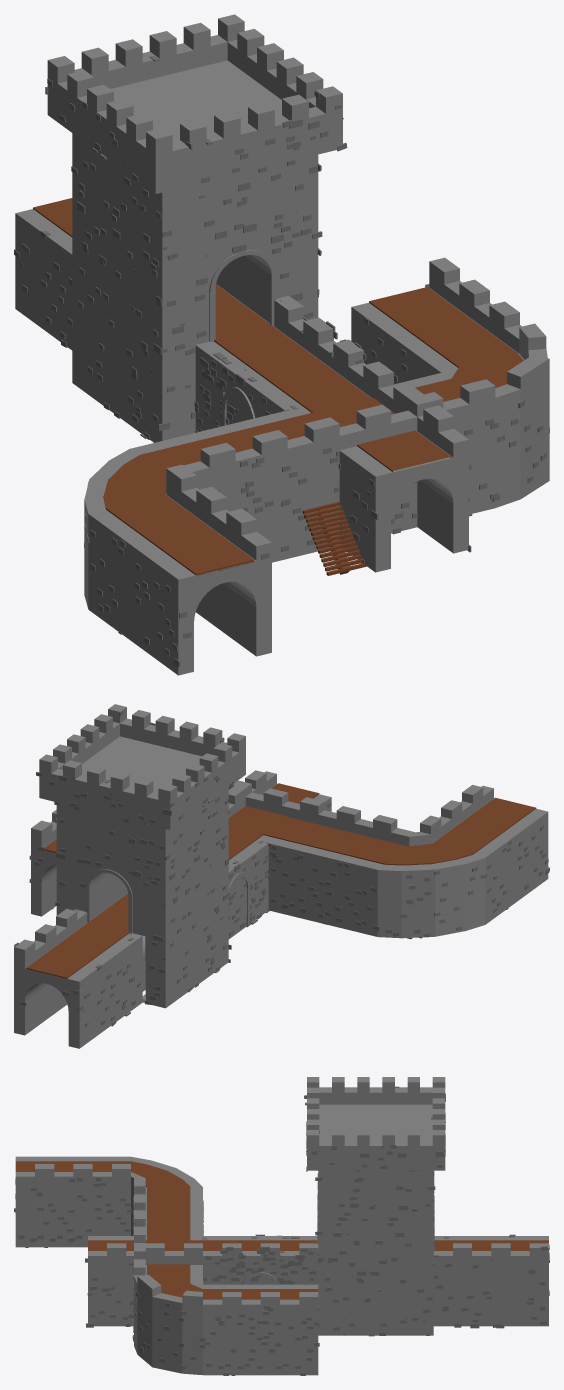
Rendered from MBS_CityWalls.fbx.
3 renders of one model, top to bottom at view 1: azimuth 30°, elevation 25°; view 2: azimuth 150°, elevation 25°; view 3: azimuth 270°, elevation 25°, orthographic. The views are drawn at different scales.
Parts seen in each view (by area): view 1: WallTower02, WallCurveOut02, WallCurveIn02, WallStairs02, Wall02, WallTower01, WallCurveOut01; view 2: WallTower02, WallCurveOut02, WallCurveIn02, WallStairs02, WallTower01, Wall02, WallCurveOut01; view 3: WallTower02, WallCurveIn02, WallCurveOut02, WallStairs02, WallTower01, WallCurveIn01, Wall02, WallGate02, WallCurveOut01.
Part boxes in pixels (left/top/right/bottom): WallTower02: left=14, top=14, right=365, bottom=442; WallCurveOut02: left=84, top=411, right=339, bottom=675; WallCurveIn02: left=286, top=257, right=549, bottom=533; WallStairs02: left=288, top=361, right=468, bottom=575; Wall02: left=195, top=329, right=344, bottom=431; WallTower01: left=20, top=78, right=343, bottom=439; WallCurveOut01: left=84, top=447, right=338, bottom=667; WallTower02: left=14, top=704, right=268, bottom=1048; WallCurveOut02: left=268, top=785, right=549, bottom=938; WallCurveIn02: left=31, top=780, right=299, bottom=916; WallStairs02: left=228, top=770, right=331, bottom=842; WallTower01: left=14, top=722, right=269, bottom=1024; Wall02: left=228, top=844, right=268, bottom=939; WallCurveOut01: left=268, top=825, right=549, bottom=939; WallTower02: left=203, top=1077, right=549, bottom=1336; WallCurveIn02: left=133, top=1226, right=318, bottom=1375; WallCurveOut02: left=14, top=1156, right=203, bottom=1247; WallStairs02: left=85, top=1236, right=202, bottom=1326; WallTower01: left=203, top=1117, right=549, bottom=1335; WallCurveIn01: left=132, top=1235, right=319, bottom=1375; Wall02: left=203, top=1236, right=318, bottom=1284; WallGate02: left=216, top=1253, right=307, bottom=1284; WallCurveOut01: left=15, top=1178, right=203, bottom=1241.
Size of the model in its own units: 2594 by 1607 by 3720.
